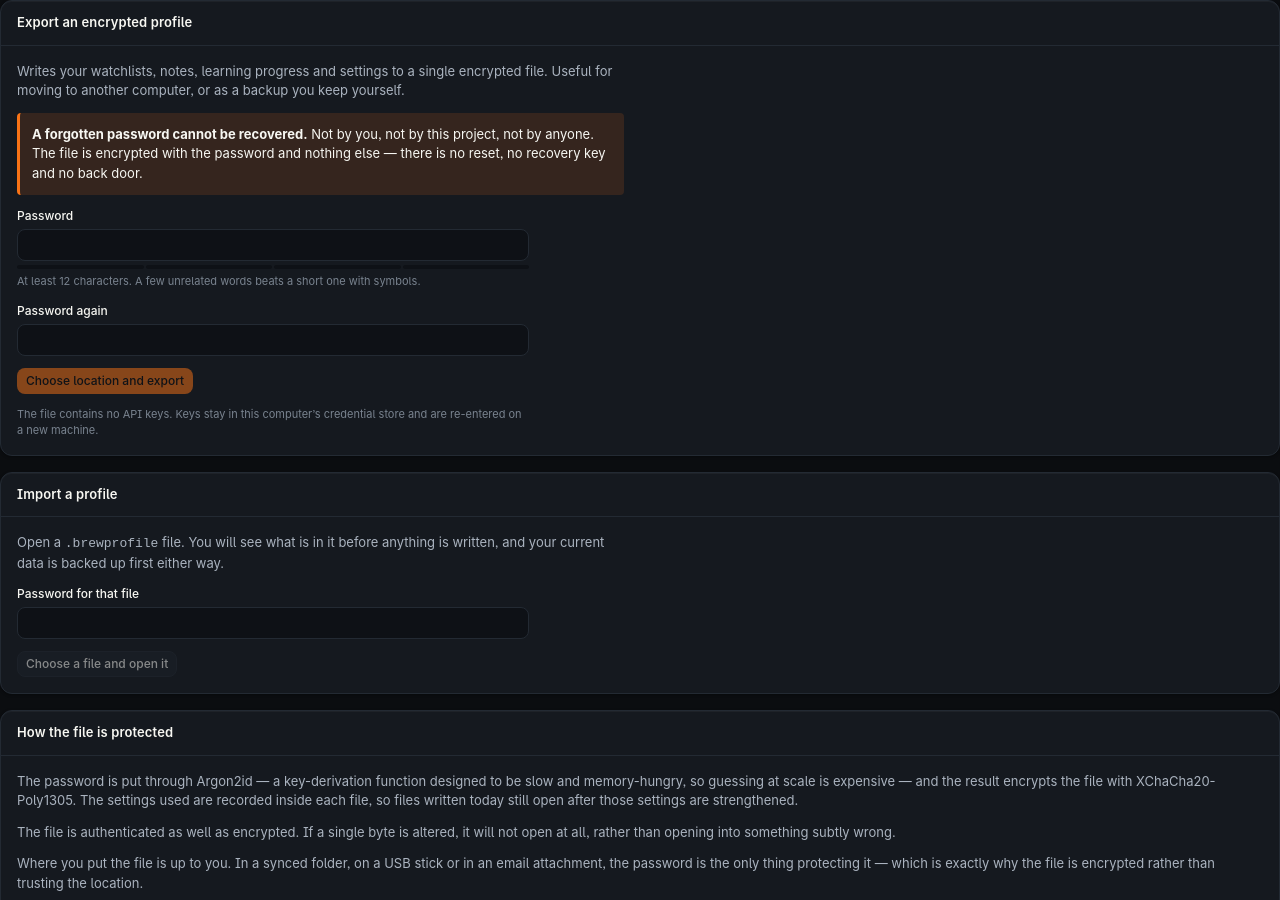
importing a profile › shows what is in the file before offering to apply it
The width and height of the screenshot is (1280, 900).
Type "correct horse battery staple" into the password field labelled "Password" at coordinates (273, 245), box [17, 229, 529, 261]
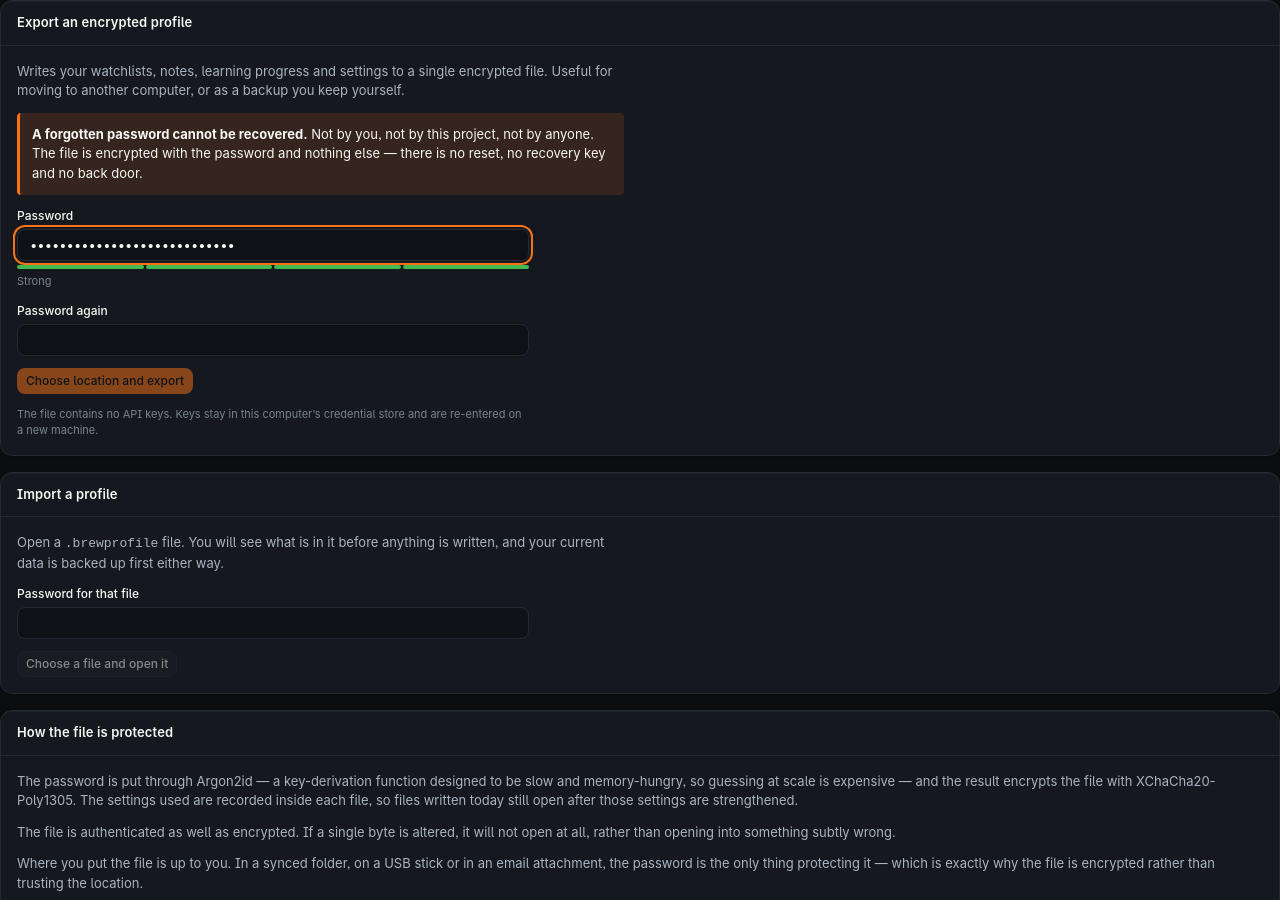
Type "correct horse battery staple" into the password field labelled "Password again" at coordinates (273, 340), box [17, 324, 529, 356]
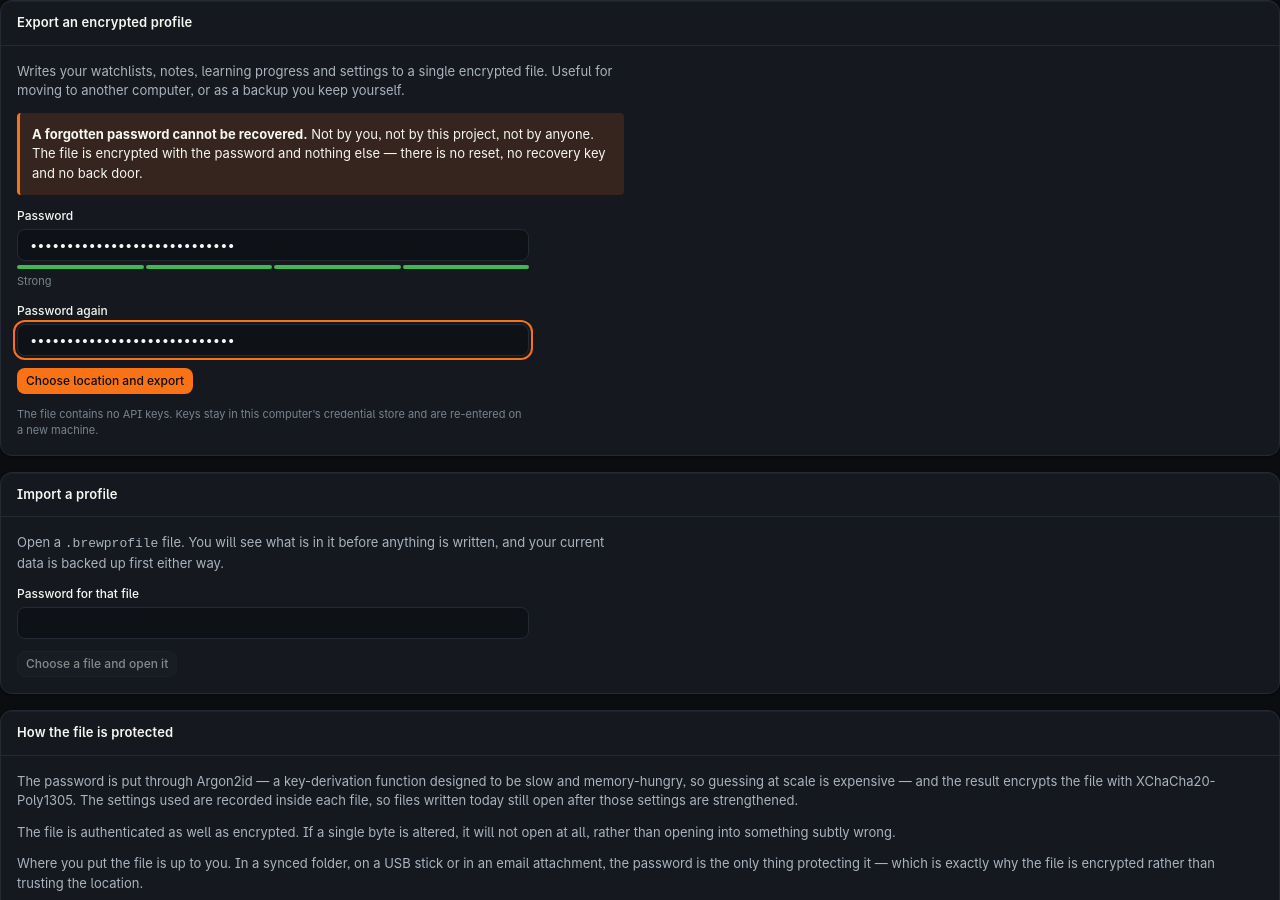
Click the button "Choose location and export" at coordinates (105, 380), box [17, 368, 193, 394]
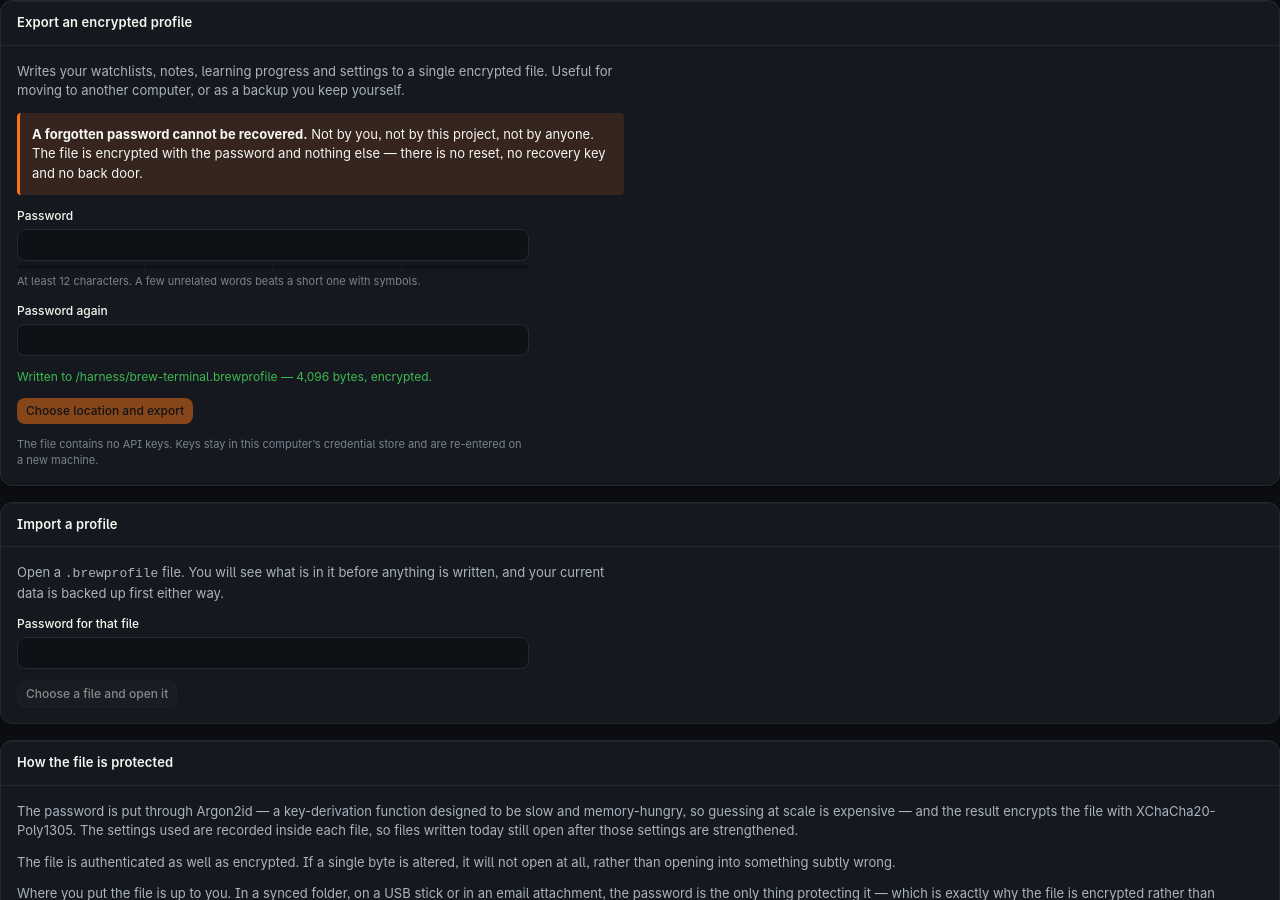
Expected: the button "Merge with what is here" is not shown
Result: the text "Written to /harness/brew-terminal.brewprofile — 4,096 bytes, encrypted." is shown at [17, 368, 432, 384]
Type "correct horse battery staple" into the password field labelled "Password for that file" at coordinates (273, 653), box [17, 637, 529, 669]
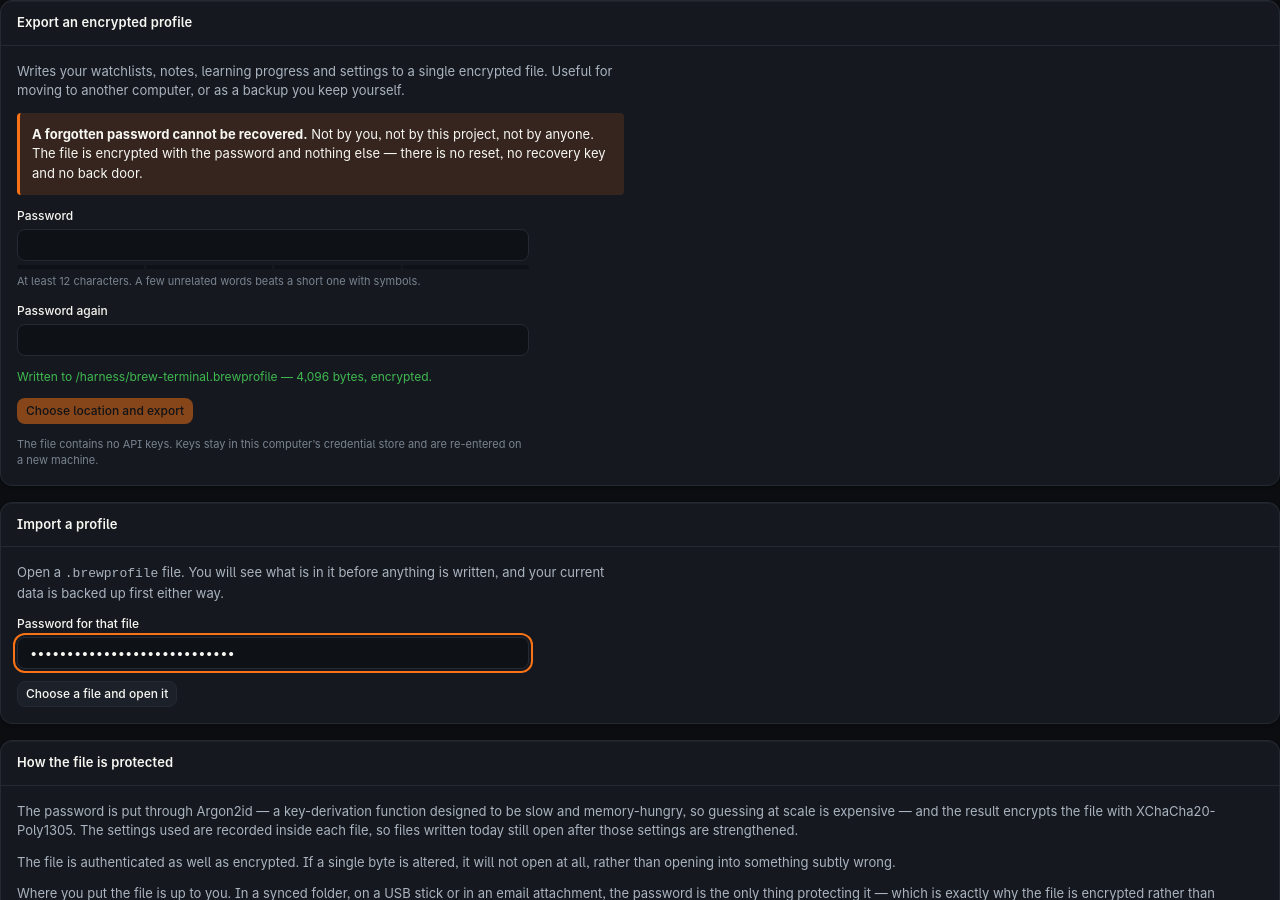
Click the button "Choose a file and open it" at coordinates (97, 694), box [17, 681, 177, 707]
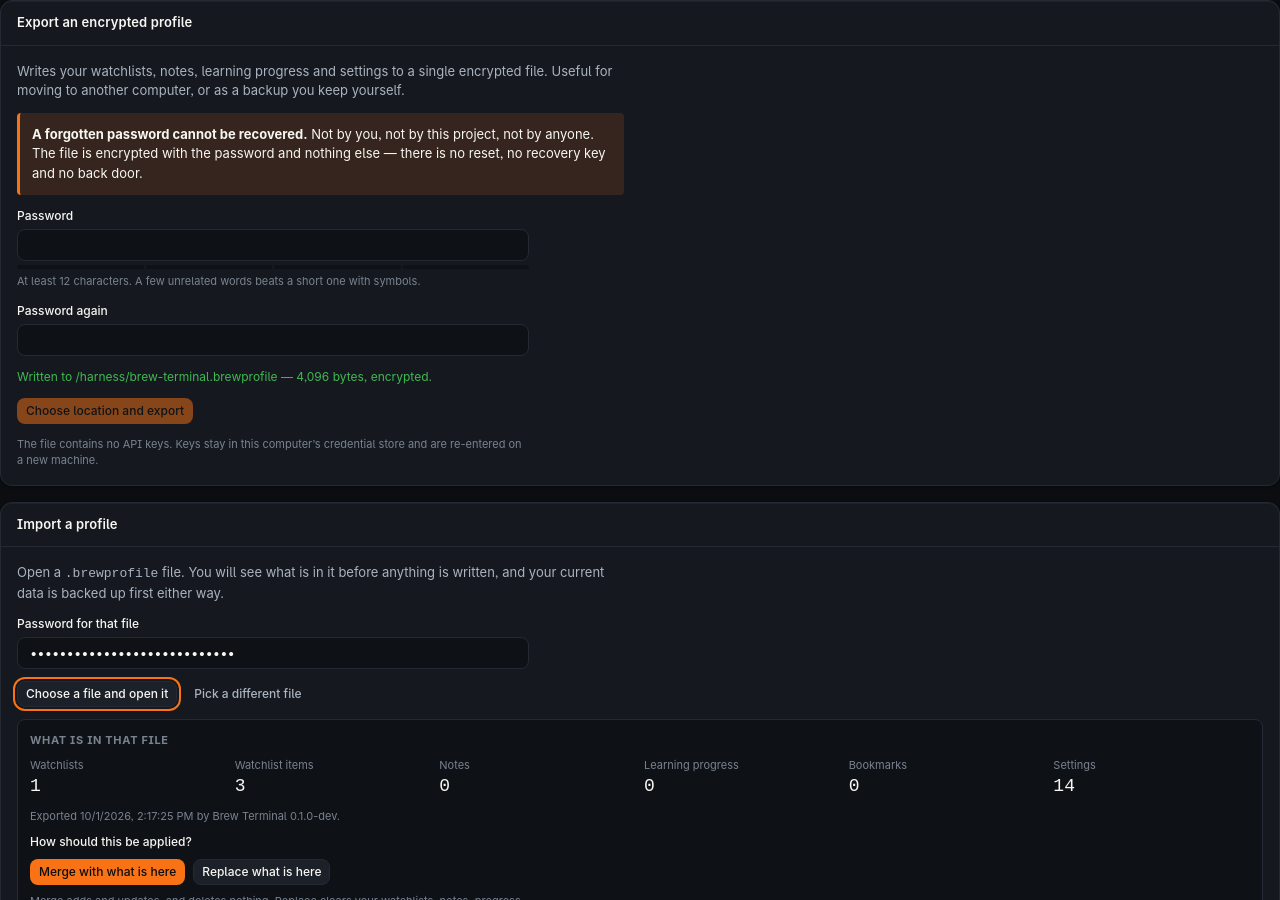
Result: the heading "What is in that file" is shown at [30, 733, 169, 747]
Result: the button "Merge with what is here" is shown at [30, 858, 185, 884]
Result: the button "Replace what is here" is shown at [193, 858, 330, 884]
